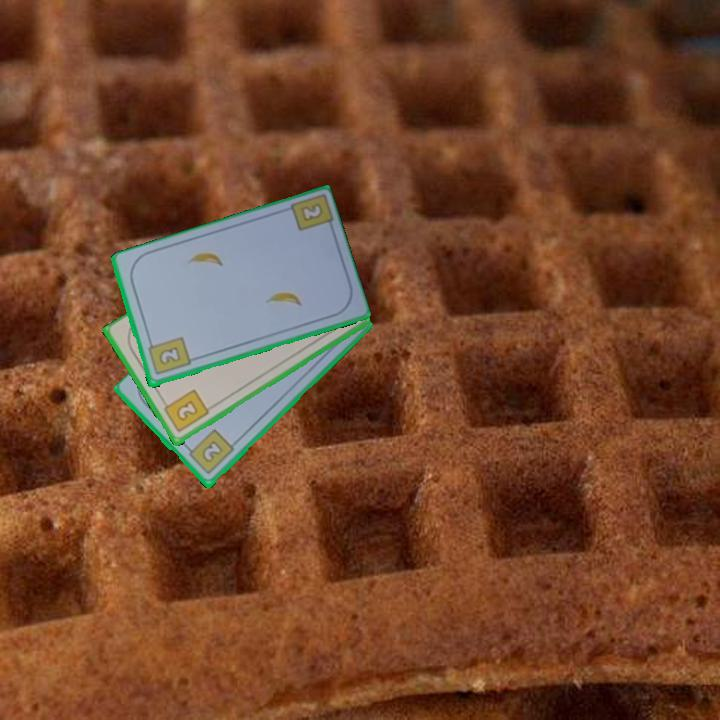2b: (182, 426, 237, 478), (158, 386, 212, 436), (144, 334, 193, 378), (299, 202, 324, 223)
